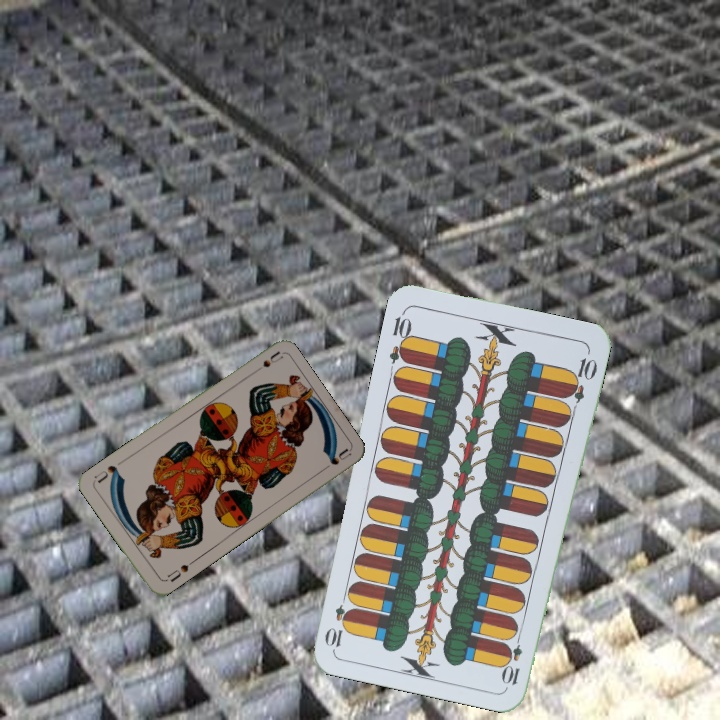E10: (385, 307, 415, 366), (501, 628, 525, 688)
SU: (247, 348, 285, 378), (163, 556, 197, 585)
